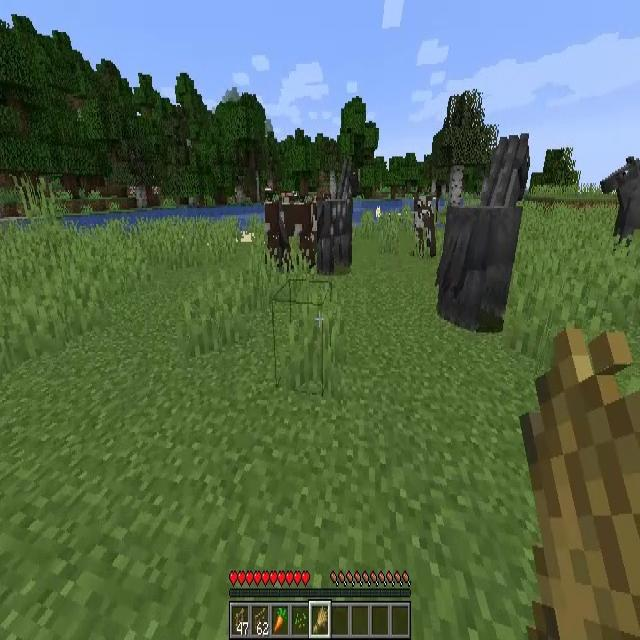cow: (279, 196, 317, 274), (265, 192, 299, 268), (414, 196, 436, 258)
